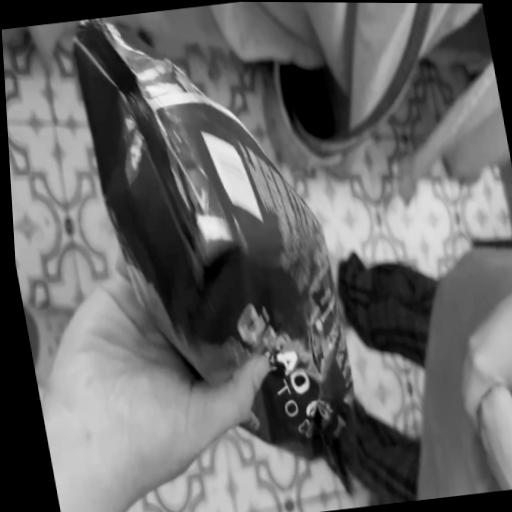cafe_hat: (73, 18, 354, 492)
